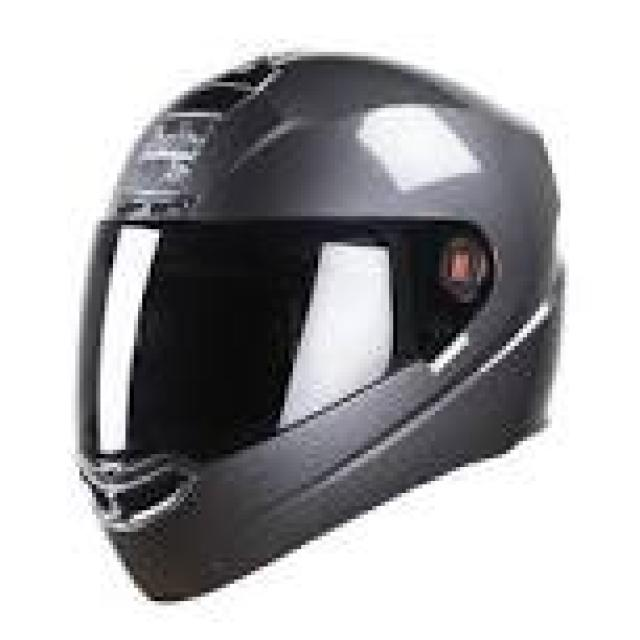With_helmet: (100, 75, 544, 561)
